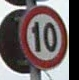limite 10: (22, 5, 68, 70)
